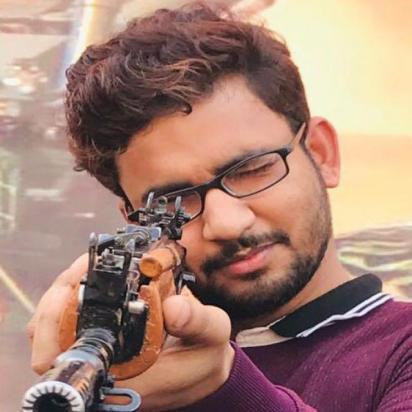Gun: (18, 188, 200, 411)
